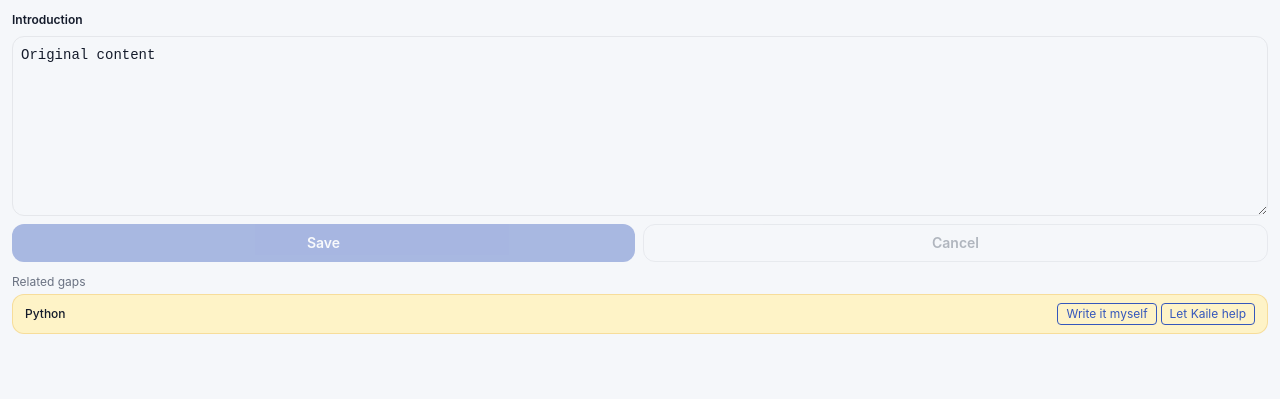
Test case: SectionEditor › shows error message when PATCH fails
Replace the text in the text box with test id "section-textarea" with "New content" at {"x": 640, "y": 126}, box top-left (12, 36), bottom-right (1268, 216)
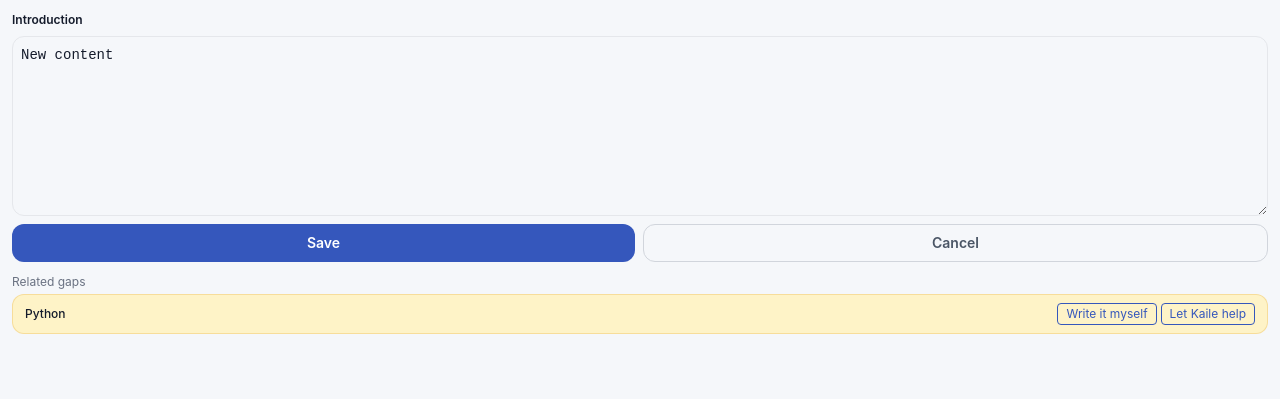
Click the button with test id "section-save".
click(324, 243)  # box top-left (12, 224), bottom-right (635, 262)
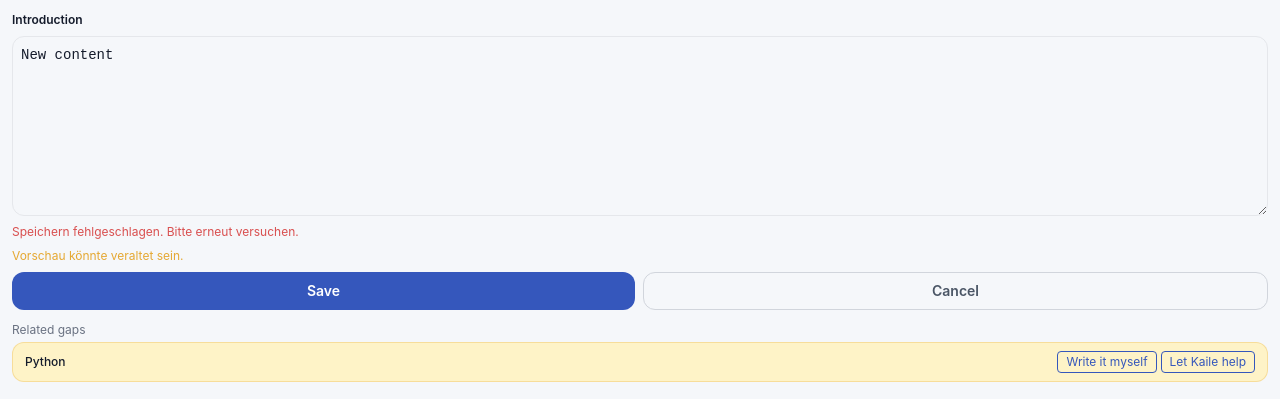
Result: the text "Speichern fehlgeschlagen. Bitte erneut versuchen." is shown at top-left (12, 224), bottom-right (299, 239)
